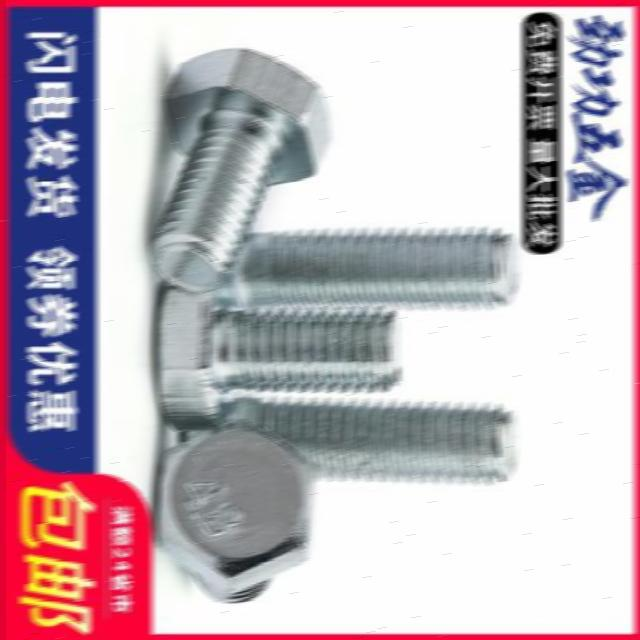Bolt: (145, 45, 333, 294), (152, 283, 402, 433), (179, 394, 521, 486), (152, 417, 316, 607), (216, 224, 522, 312)
